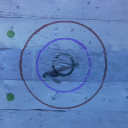Axe Tip: (48, 73, 60, 76)
